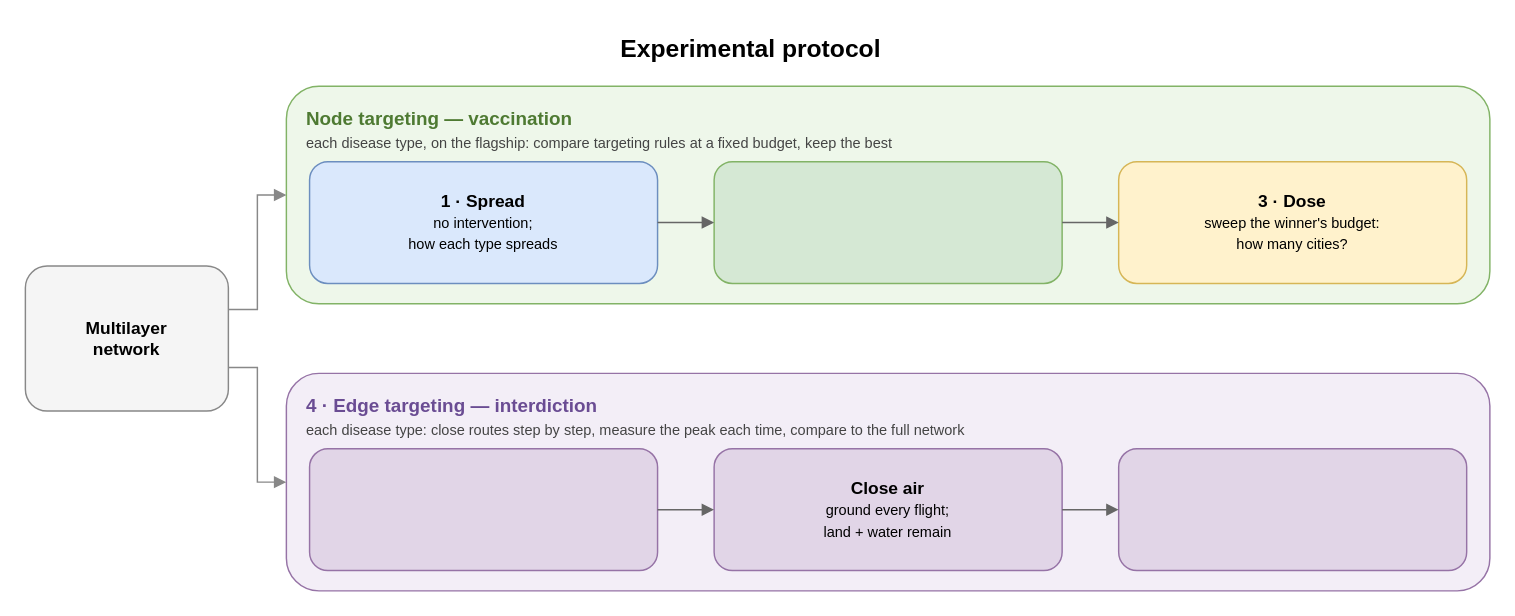
This 1515x616 diagram has some shape labels left out. The box of each missing label's shape, as (x1, y1, x2, y2) in pixels:
2 · Defend compare every targeting rule per disease; keep each one's best: (713, 160, 1062, 283)
Also close ferries shut water routes too; only land left: (1117, 447, 1467, 571)
Full network no routes closed; baseline: (308, 447, 658, 571)
